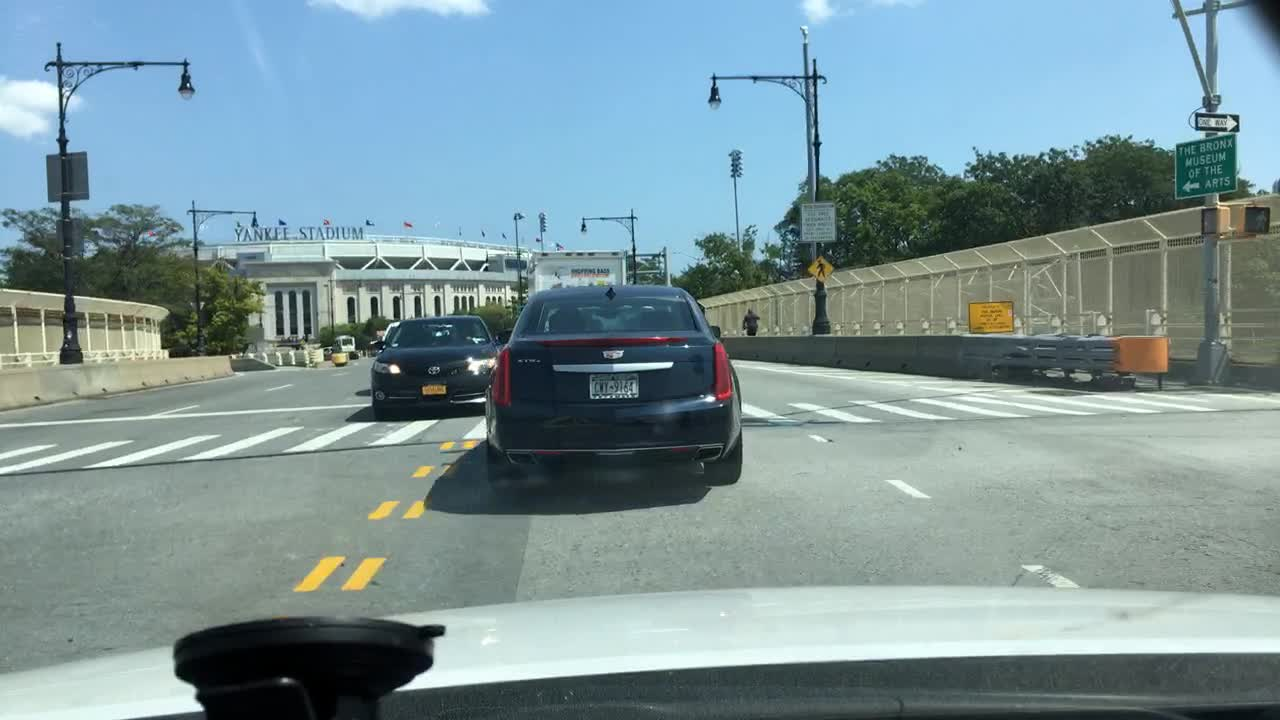car: (483, 281, 742, 485), (369, 311, 499, 419), (381, 319, 400, 344), (367, 339, 384, 356), (323, 345, 330, 354)
person: (740, 306, 759, 336)
traffic light: (1240, 202, 1272, 234), (1199, 207, 1231, 232)
traffic sign: (1173, 133, 1240, 199), (43, 150, 91, 203), (968, 296, 1015, 332), (799, 202, 834, 243), (54, 217, 83, 254), (1195, 111, 1240, 132), (808, 256, 834, 280)
truck: (524, 247, 627, 293), (332, 333, 356, 352)
